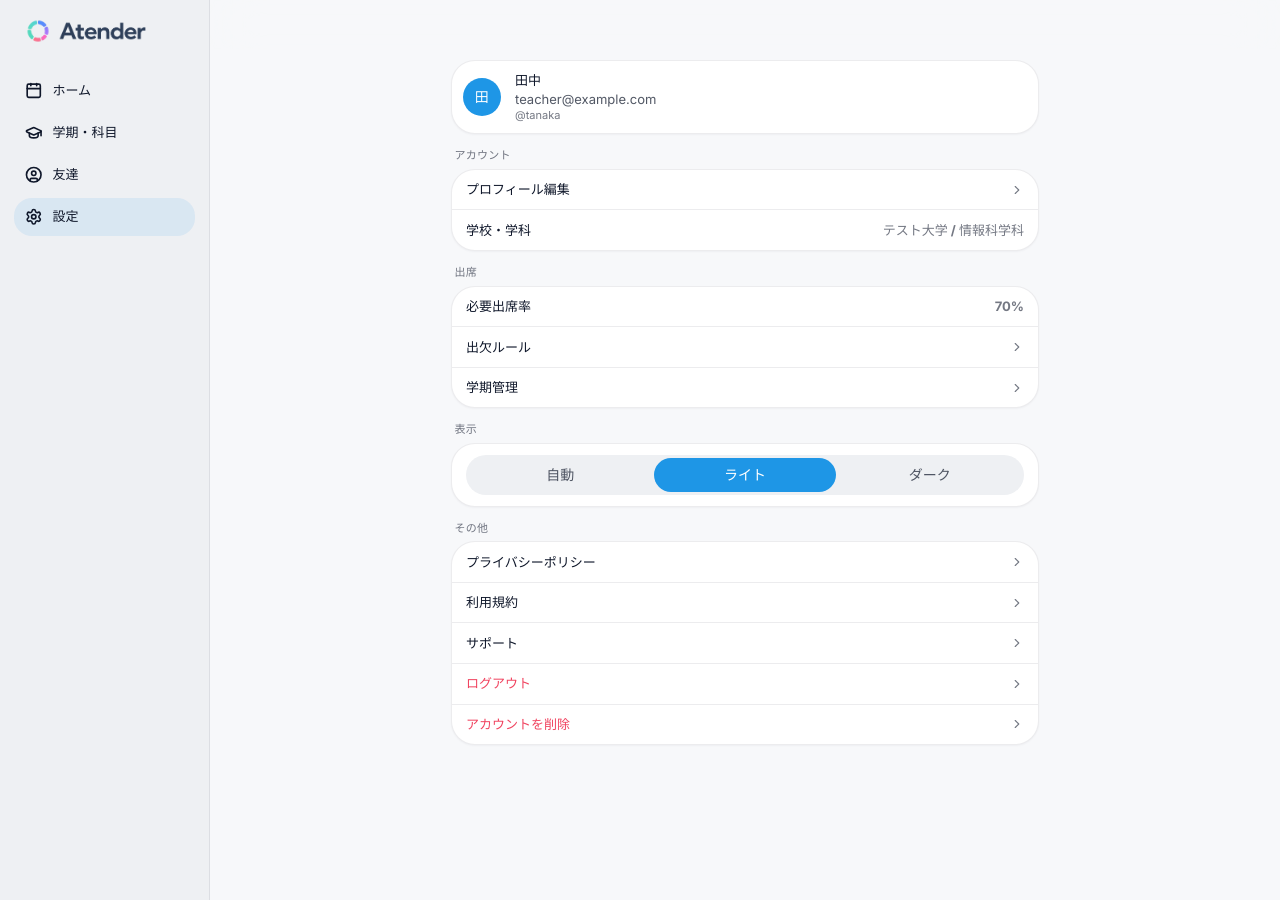
Test: [T] template browser (entry E1) › [T2] fetch error -> retry
The width and height of the screenshot is (1280, 900).
What coordinates should you click on to do the following:
click the button "学期管理"
I would click on:
 (492, 387)
Its box is [452,368,1038,407].
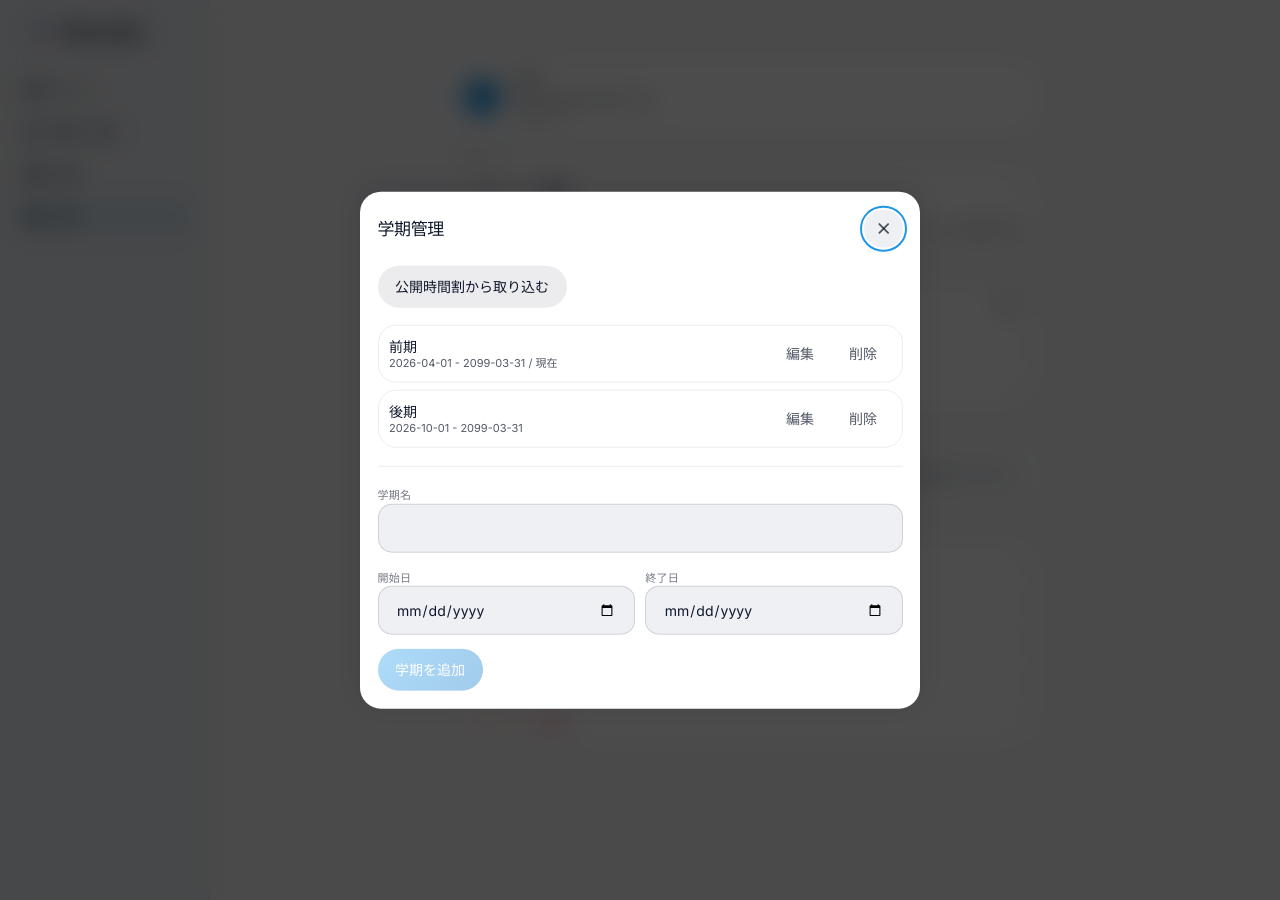
Expected: the button with test id "semester-list-import-template" is enabled
What coordinates should you click on to do the following:
click the button with test id "semester-list-import-template"
I would click on:
 (472, 286)
Its box is [378,265,566,307].
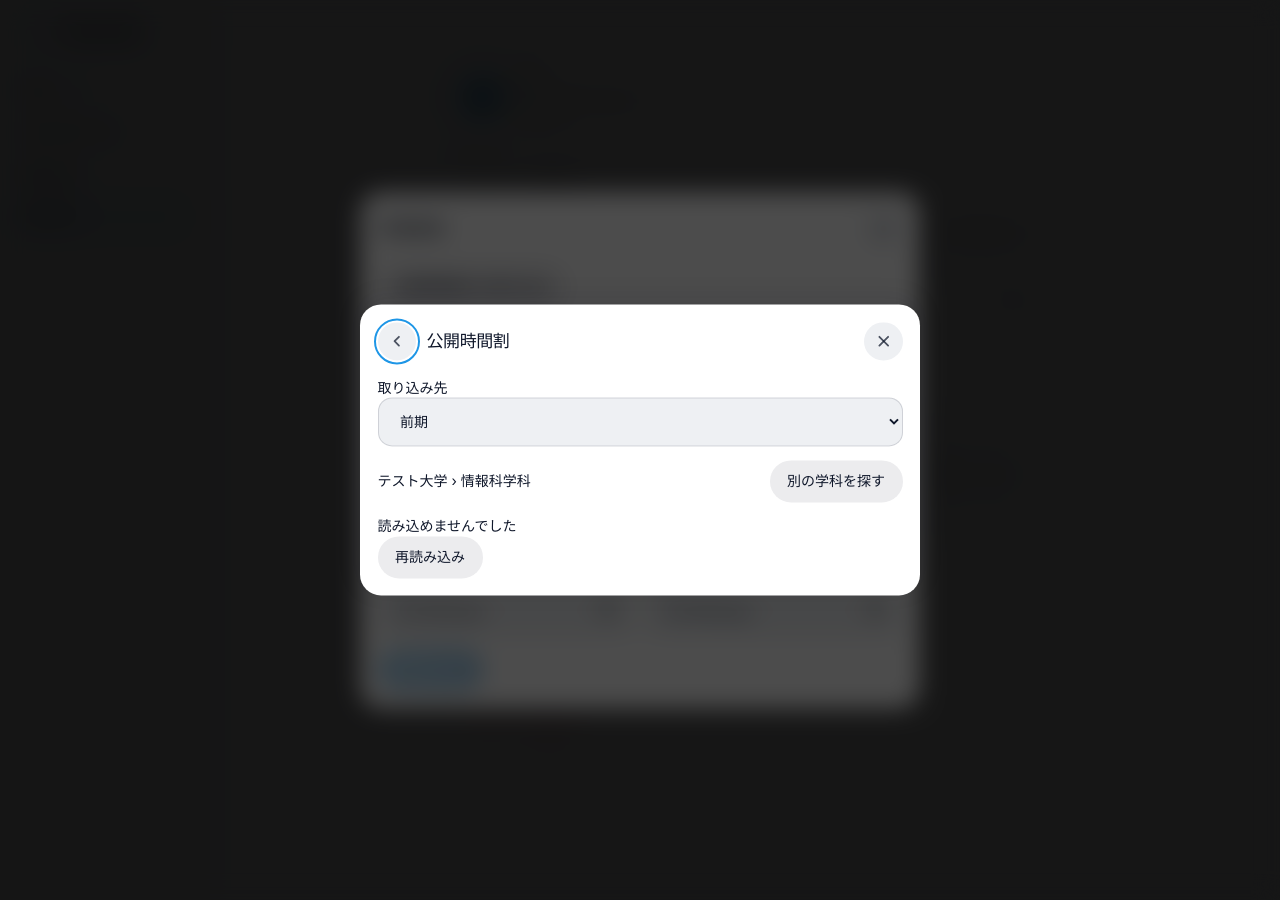
Expected: the heading "公開時間割" is shown, [426,328,509,354]
Expected: the text "読み込めませんでした" is shown, [378,518,516,534]
What coordinates should you click on to do the following:
click the button "再読み込み"
I would click on:
 (430, 557)
Its box is [378,536,482,578].
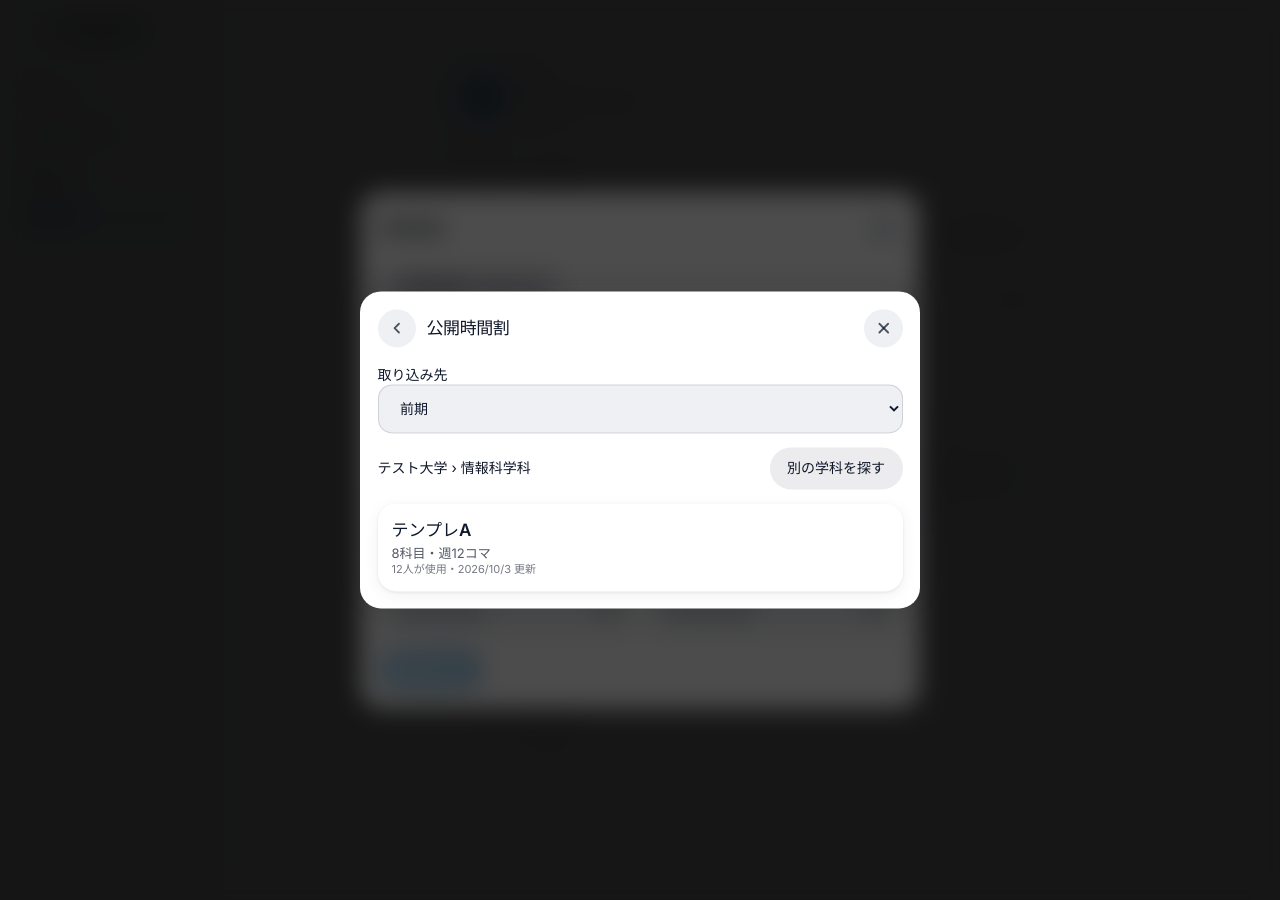
Expected: the button with test id "template-card-tA" is shown, [378,504,902,591]
